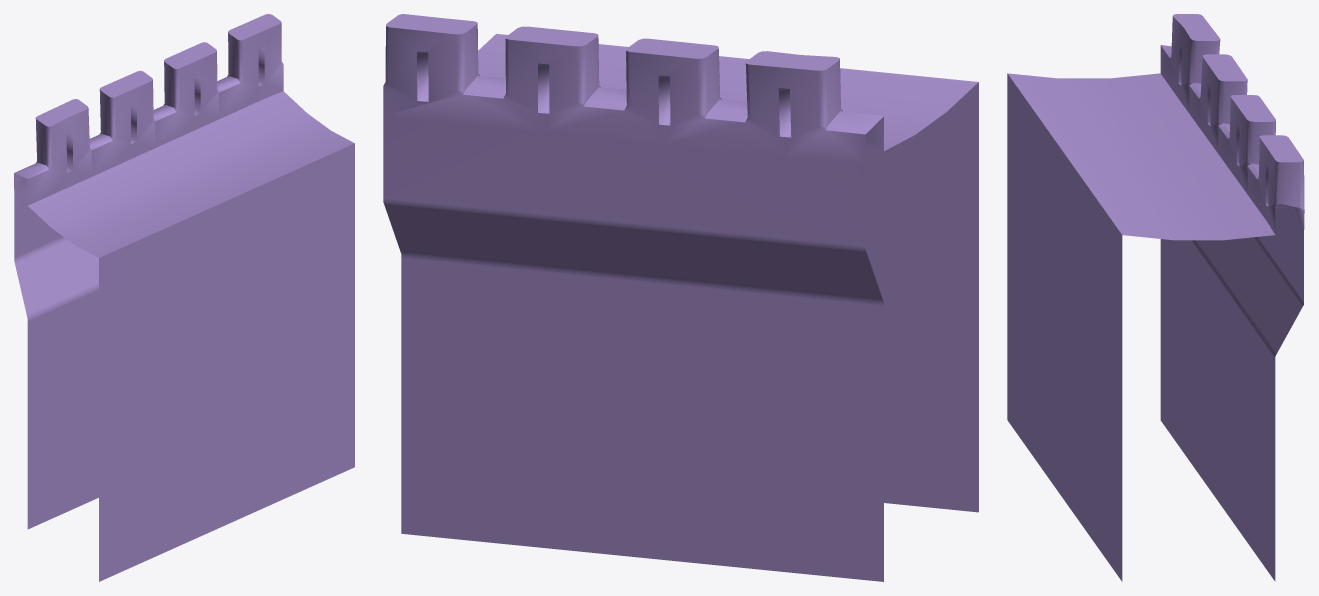
Rendered from wall_outer_10m_angle_a.fbx.
3 views of the same model, side by side, from view 1: azimuth 30°, elevation 25°; view 2: azimuth 150°, elevation 25°; view 3: azimuth 270°, elevation 25° (orthographic). The views are drawn at different scales.
Visible parts, largest first — view 1: Cube.056; view 2: Cube.056; view 3: Cube.056.
Part boxes in pixels (x1,y1,x2,y2): Cube.056: (14, 14, 354, 581); Cube.056: (383, 14, 978, 581); Cube.056: (1007, 14, 1304, 581).
Size of the model in its own units: 10 by 12.1 by 7.76.
